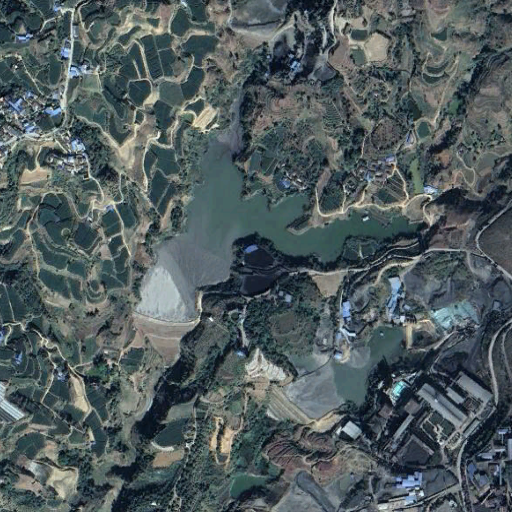tp: (128, 94, 432, 362), (266, 323, 415, 429)
